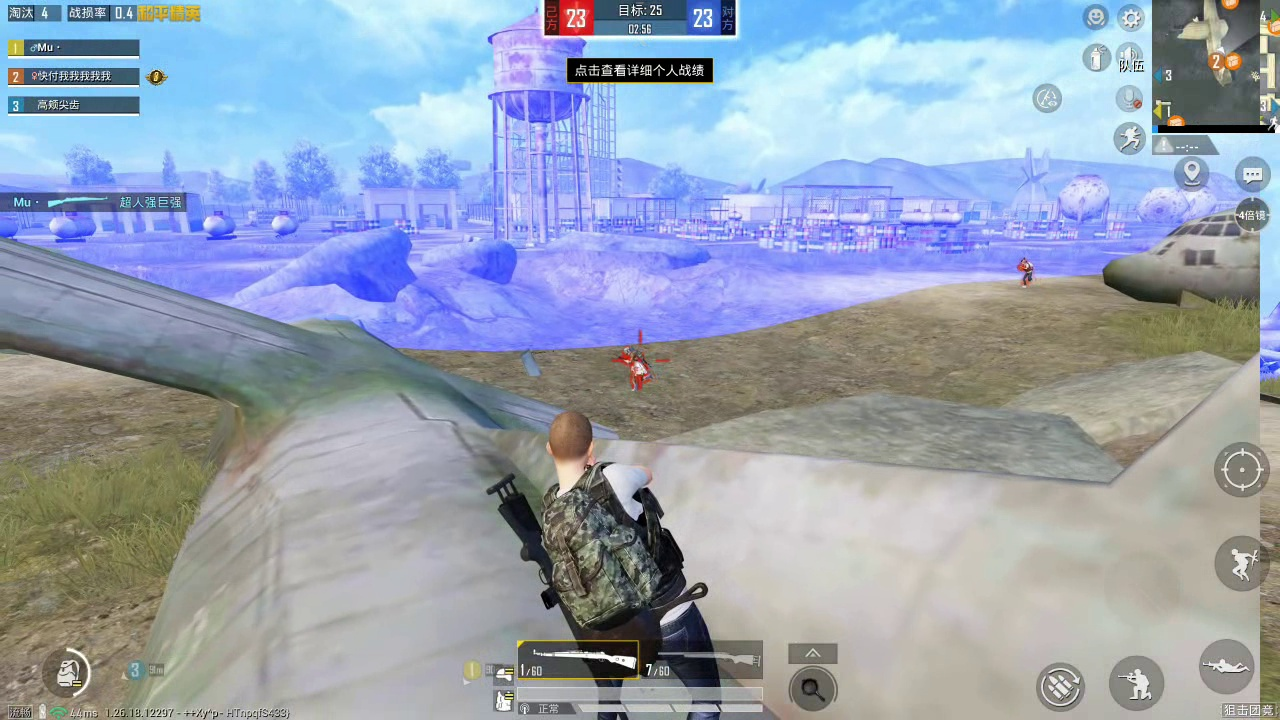enemy: (620, 345, 650, 390), (1018, 252, 1034, 288)
